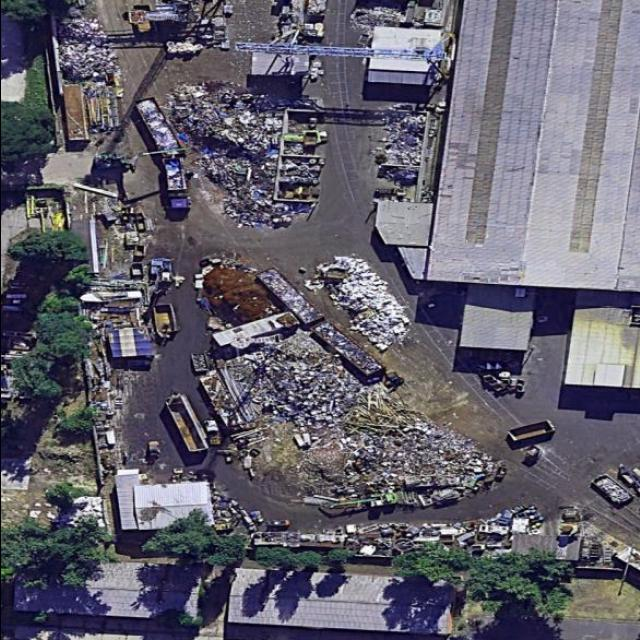dump_site: (227, 327, 516, 539), (159, 78, 291, 229), (292, 243, 427, 353), (57, 12, 127, 80), (194, 365, 262, 432), (309, 318, 385, 376), (255, 265, 325, 323), (133, 96, 183, 154), (373, 112, 425, 166)
